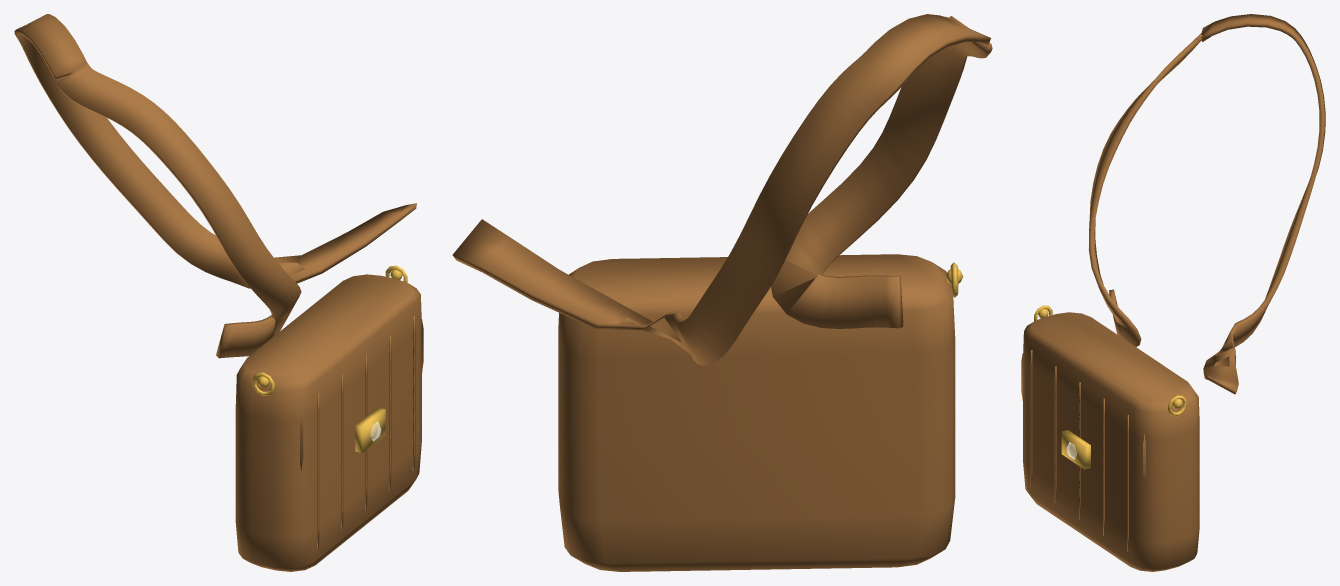
File: crossbody_bag.glb
3 renders of one model, left to right at view 1: azimuth 30°, elevation 25°; view 2: azimuth 150°, elevation 25°; view 3: azimuth 270°, elevation 25°, orthographic. The views are drawn at different scales.
Parts seen in each view (by area): view 1: crossbody_bag; view 2: crossbody_bag; view 3: crossbody_bag.
Part boxes in pixels (bbox=[...]): crossbody_bag: bbox=[14, 14, 423, 571]; crossbody_bag: bbox=[452, 14, 992, 571]; crossbody_bag: bbox=[1021, 14, 1325, 571].
Bounding box in the file's own units: 0.2988 × 0.3738 × 0.242.
